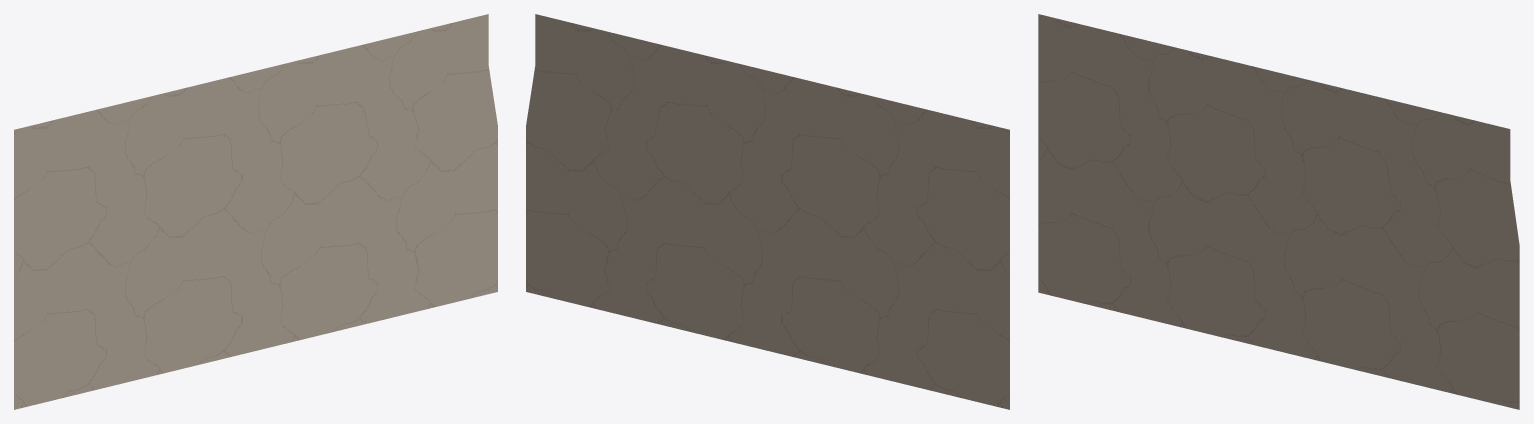
File: kd_stage_135ded_4_139_exterior_piece_0.glb
The picture shows the model from 3 angles, left to right: view 1: azimuth 30°, elevation 25°; view 2: azimuth 150°, elevation 25°; view 3: azimuth 330°, elevation 25°; orthographic projection.
Visible parts, largest first — view 1: kd_stage_135ded_4_139_exterior_piece_0; view 2: kd_stage_135ded_4_139_exterior_piece_0; view 3: kd_stage_135ded_4_139_exterior_piece_0.
Part boxes in pixels (bbox=[...]): kd_stage_135ded_4_139_exterior_piece_0: bbox=[14, 14, 497, 409]; kd_stage_135ded_4_139_exterior_piece_0: bbox=[526, 14, 1009, 409]; kd_stage_135ded_4_139_exterior_piece_0: bbox=[1038, 14, 1519, 409].
Size of the model in its own units: 1.45 by 0.8008 by 9.54e-07.
Materials: 1 (1 with a texture image).
